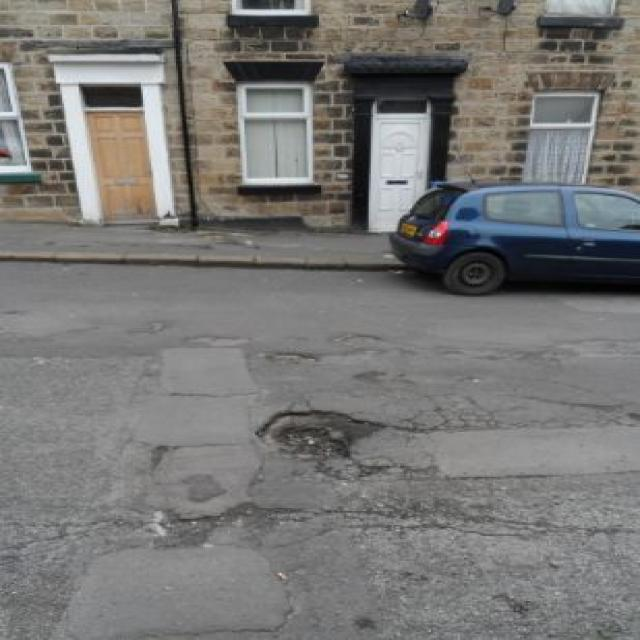Pothole: (246, 399, 389, 475)
